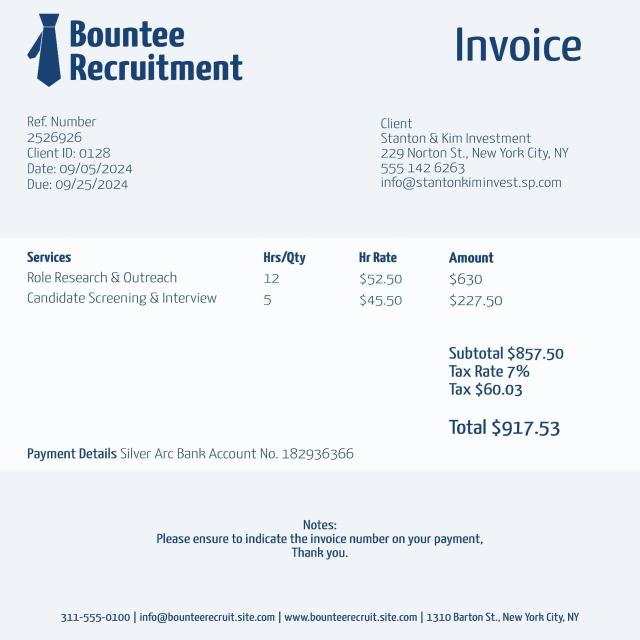paragraph: (147, 514, 507, 572), (374, 114, 578, 191), (443, 341, 584, 437), (65, 15, 243, 86), (55, 608, 581, 629), (24, 114, 138, 192), (25, 445, 358, 463), (451, 23, 586, 65)
table: (21, 246, 515, 315)
